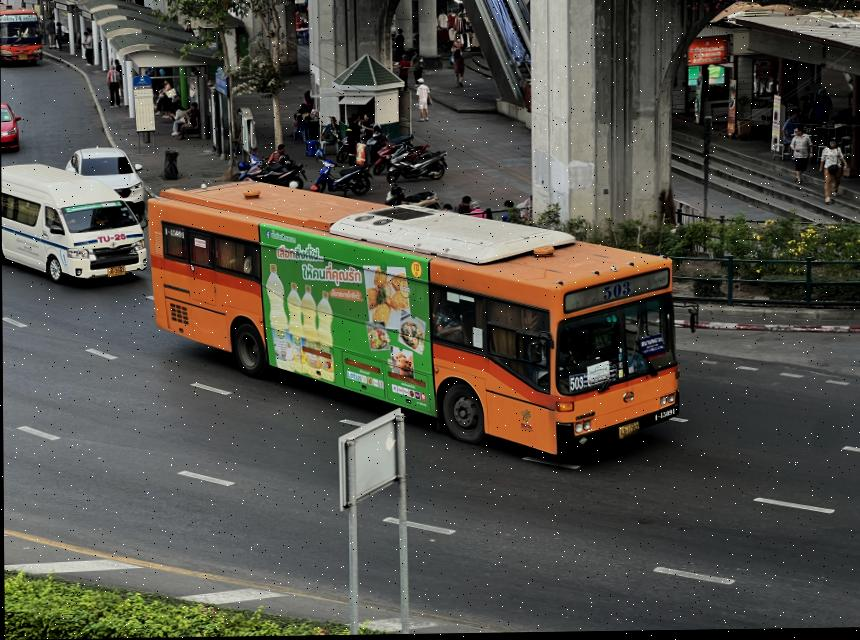BMTA-bus: (144, 185, 680, 460)
Bus Line Number: (600, 279, 635, 306)
Bus Side Number: (650, 405, 678, 427)
Destination Sign: (639, 337, 667, 357)
